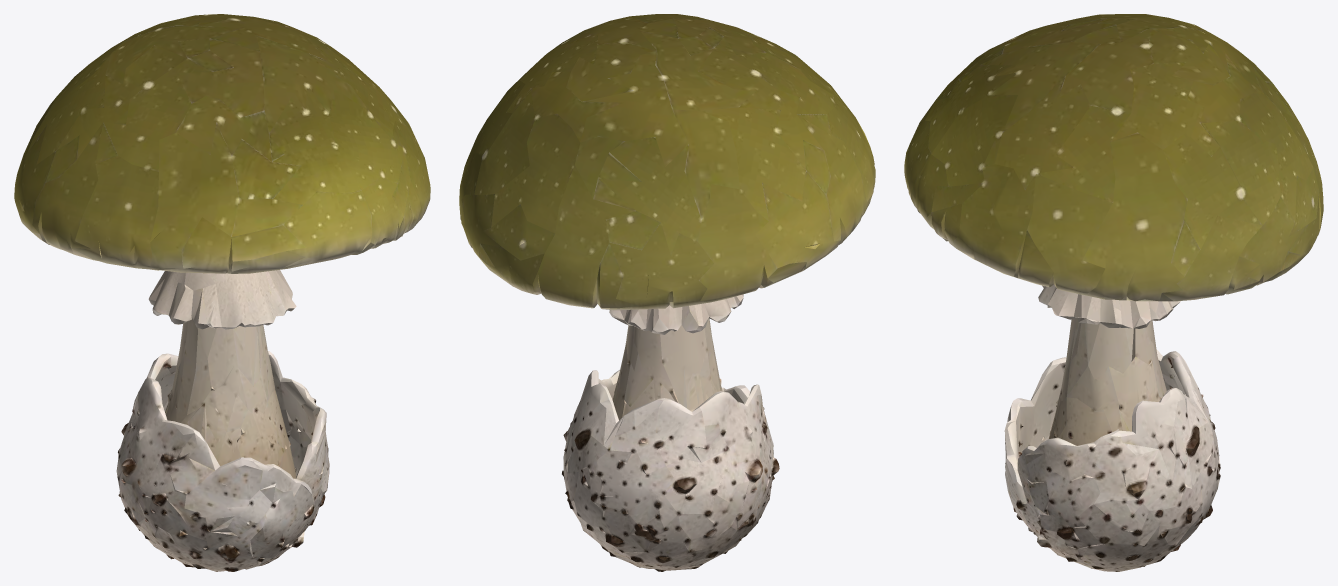
The model's file is koygocuren.glb.
3 views of the same model, side by side, from view 1: azimuth 30°, elevation 25°; view 2: azimuth 150°, elevation 25°; view 3: azimuth 270°, elevation 25° (orthographic).
Visible parts, largest first — view 1: output_unwrapped; view 2: output_unwrapped; view 3: output_unwrapped.
Boxes of the visible parts, x1=… form: output_unwrapped: x1=14, y1=14, x2=430, y2=571; output_unwrapped: x1=459, y1=14, x2=875, y2=571; output_unwrapped: x1=904, y1=14, x2=1323, y2=571.
Size of the model in its own units: 1.36 by 1.9 by 1.36.
1 material, 1 textured.
